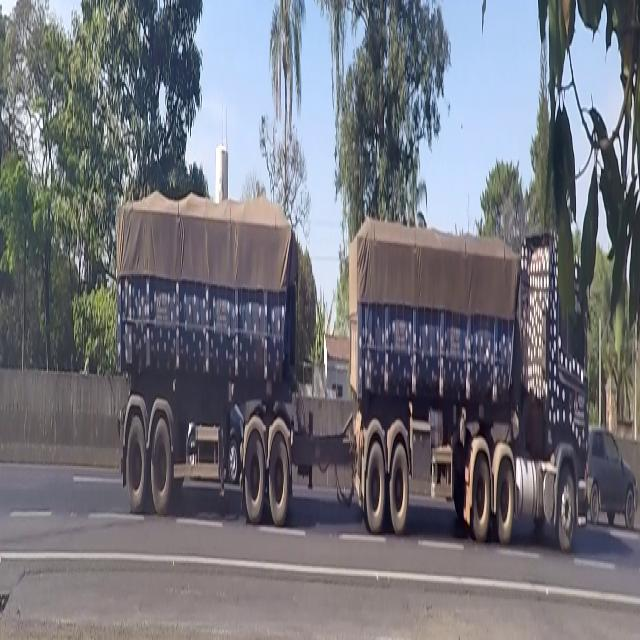-axle: (123, 410, 147, 523), (243, 420, 266, 532), (468, 441, 493, 544), (364, 427, 386, 544), (150, 408, 173, 518), (555, 452, 578, 558), (268, 434, 291, 537), (494, 448, 517, 544), (388, 438, 408, 540)
